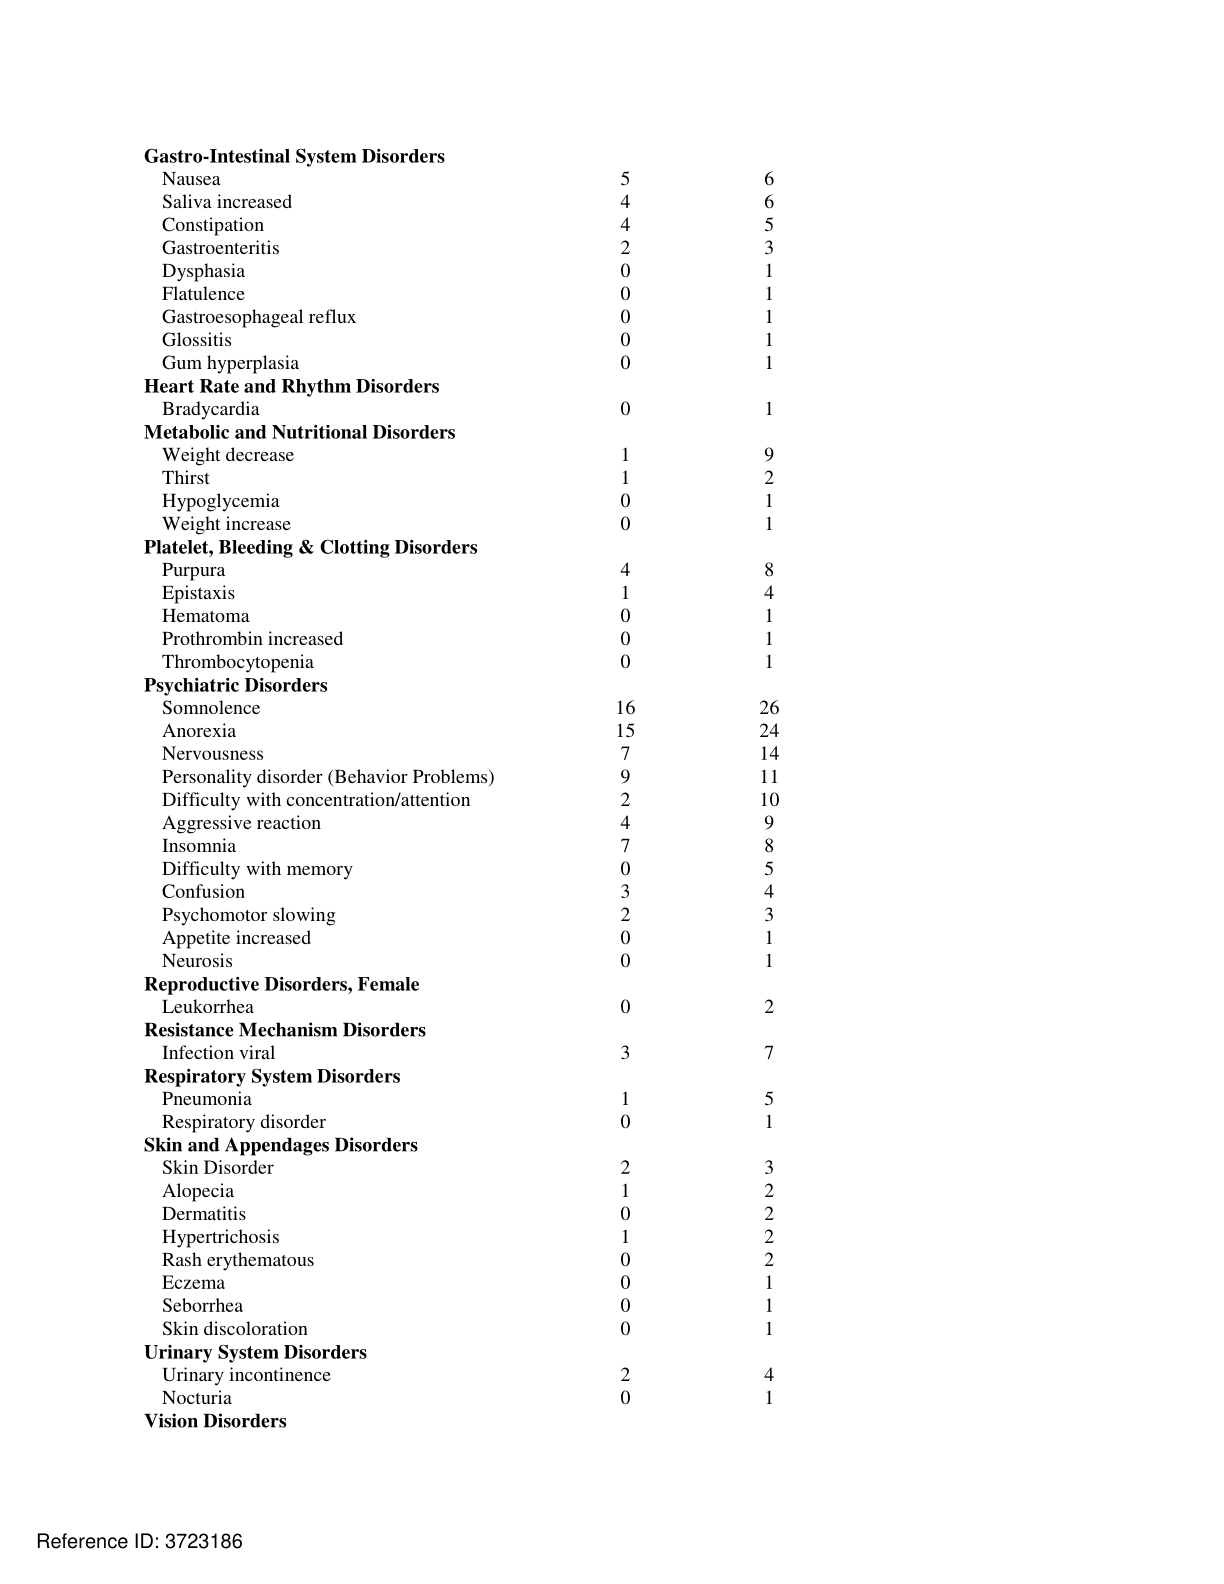nolines: (139, 141, 783, 1434)
